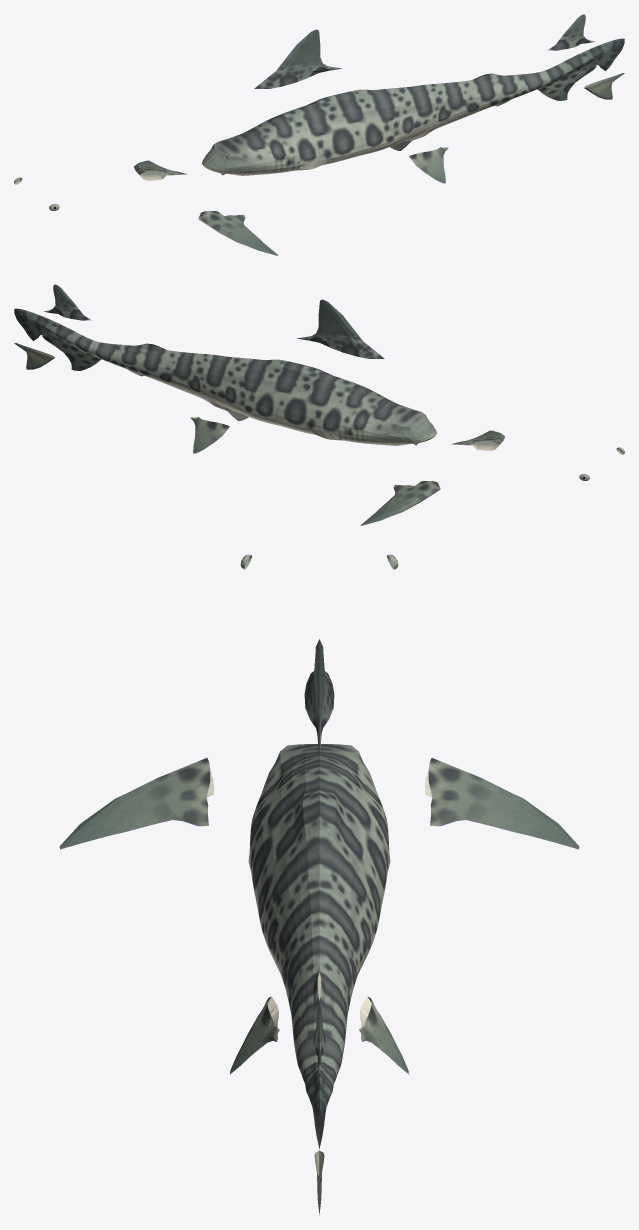
Rendered from leopard_fish.obj.
3 renders of one model, top to bottom at view 1: azimuth 30°, elevation 25°; view 2: azimuth 150°, elevation 25°; view 3: azimuth 270°, elevation 25°, orthographic. The views are drawn at different scales.
Parts seen in each view (by area): view 1: object, object2, object5, object7, object13, object14, object6; view 2: object, object2, object6, object8, object13, object15, object5; view 3: object, object6, object5, object2, object8, object7.
Boxes of the visible parts, x1,y1,x2,y2 form: object: (202, 38, 624, 175); object2: (254, 29, 342, 88); object5: (198, 211, 278, 255); object7: (409, 147, 448, 182); object13: (547, 14, 594, 50); object14: (584, 73, 624, 99); object6: (134, 160, 187, 174); object: (14, 308, 436, 445); object2: (296, 299, 384, 358); object6: (360, 481, 440, 525); object8: (190, 417, 229, 452); object13: (44, 284, 91, 320); object15: (14, 343, 54, 369); object5: (451, 430, 504, 444); object: (248, 744, 390, 1149); object6: (428, 758, 579, 849); object5: (59, 758, 210, 849); object2: (304, 639, 334, 758); object8: (359, 997, 408, 1073); object7: (230, 997, 279, 1073).
Size of the model in its own units: 0.563 by 0.1488 by 0.2137.
Materials: 1 (1 with a texture image).
